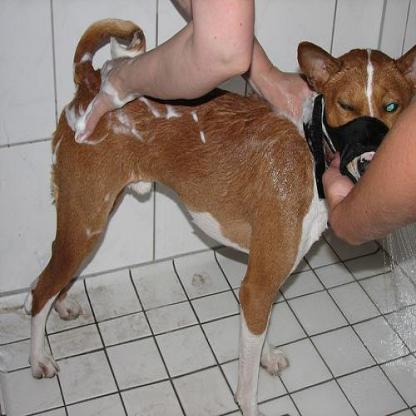basenji: (28, 18, 400, 408)
